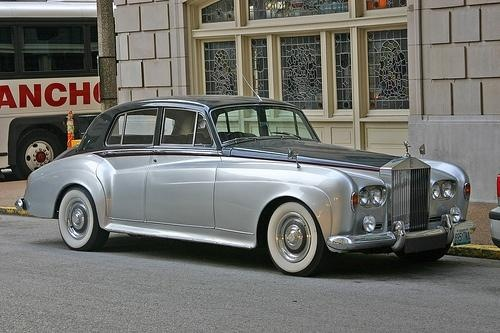bus: (1, 1, 105, 184)
car: (15, 94, 477, 278), (490, 174, 500, 249)
